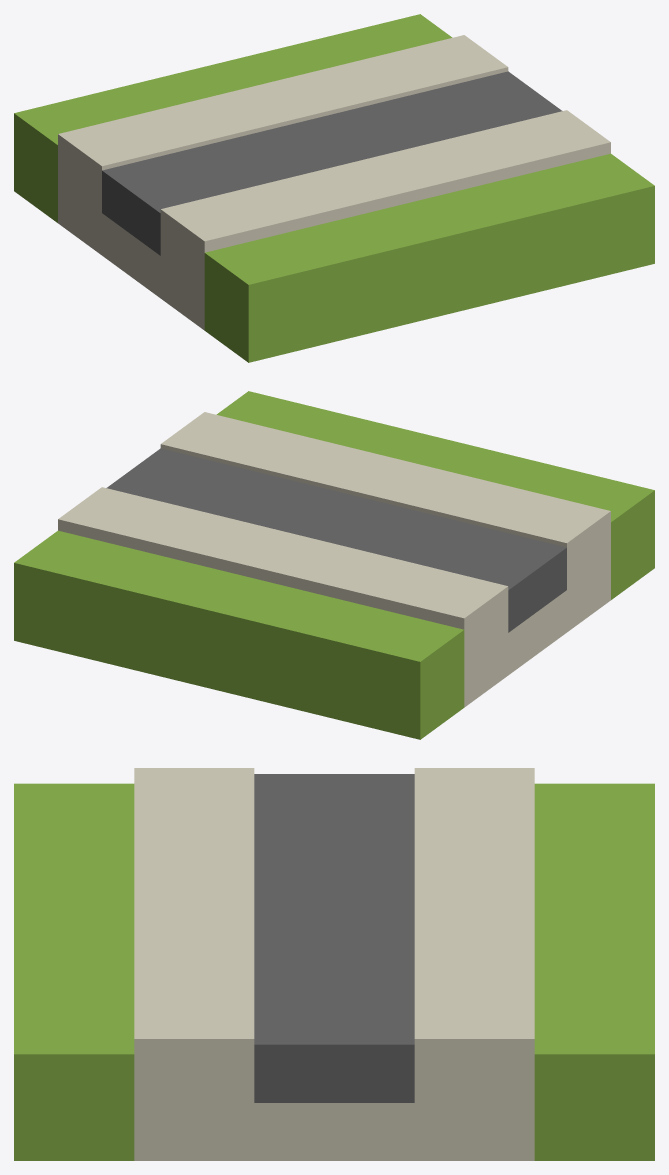
The model's file is roadTile_160.obj.
The picture shows the model from 3 angles, top to bottom: view 1: azimuth 30°, elevation 25°; view 2: azimuth 150°, elevation 25°; view 3: azimuth 270°, elevation 25°; orthographic projection. The views are drawn at different scales.
Parts seen in each view (by area): view 1: part2, part1, part3, part4, part0, part6, part5; view 2: part0, part1, part4, part3, part2, part6; view 3: part1, part4, part0, part2, part3.
Part boxes in pixels (x1,y1,x2,y2): part2: (204,153,654,362); part1: (58,35,507,330); part3: (161,110,610,252); part4: (102,71,562,212); part0: (14,14,452,222); part6: (102,171,160,255); part5: (102,67,508,170); part0: (14,530,464,739); part1: (58,487,610,707); part4: (106,448,566,589); part3: (160,412,610,547); part2: (216,391,654,599); part6: (508,548,566,632); part1: (134,768,534,1160); part4: (254,774,414,1102); part0: (534,783,654,1160); part2: (14,783,134,1160); part3: (134,768,254,1038).
Bounding box in the file's own units: 3 × 0.63 × 3.
